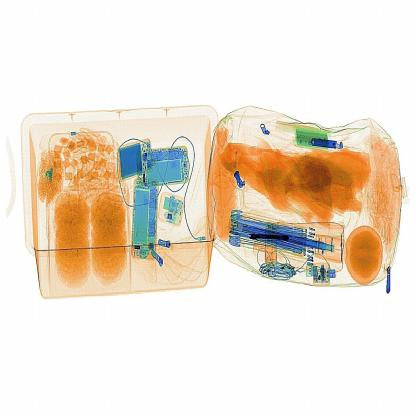knife: (249, 231, 294, 243)
